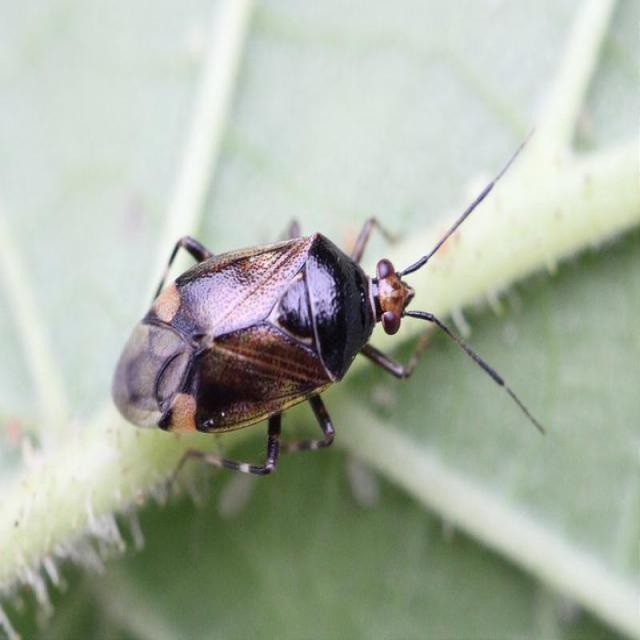Miridae-Adult-: (100, 139, 537, 477)
